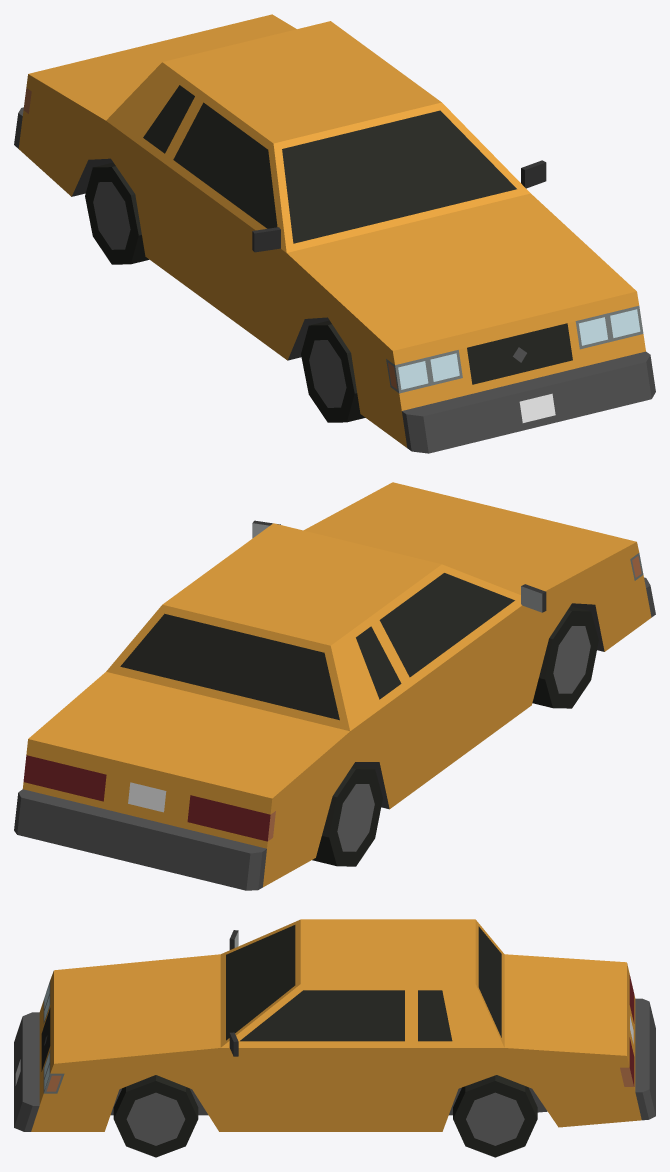
Rendered from Veh_Coupe_03_Yellow.glb.
3 views of the same model, one above another, from view 1: azimuth 30°, elevation 25°; view 2: azimuth 150°, elevation 25°; view 3: azimuth 270°, elevation 25° (orthographic). The views are drawn at different scales.
Parts seen in each view (by area): view 1: Coupe_03_Green, Wheel_RR, Wheel_FR; view 2: Coupe_03_Green, Wheel_RR, Wheel_FR; view 3: Coupe_03_Green, Wheel_RL, Wheel_FL.
Part boxes in pixels (<box>): Coupe_03_Green: <box>14,14,655,453</box>; Wheel_RR: <box>85,162,149,264</box>; Wheel_FR: <box>301,320,365,422</box>; Coupe_03_Green: <box>14,482,655,890</box>; Wheel_RR: <box>312,764,382,866</box>; Wheel_FR: <box>532,606,598,708</box>; Coupe_03_Green: <box>14,919,655,1131</box>; Wheel_RL: <box>453,1075,537,1157</box>; Wheel_FL: <box>113,1075,198,1157</box>.
Size of the model in its own units: 1.14 by 0.7543 by 2.76.
1 material, 1 textured.
